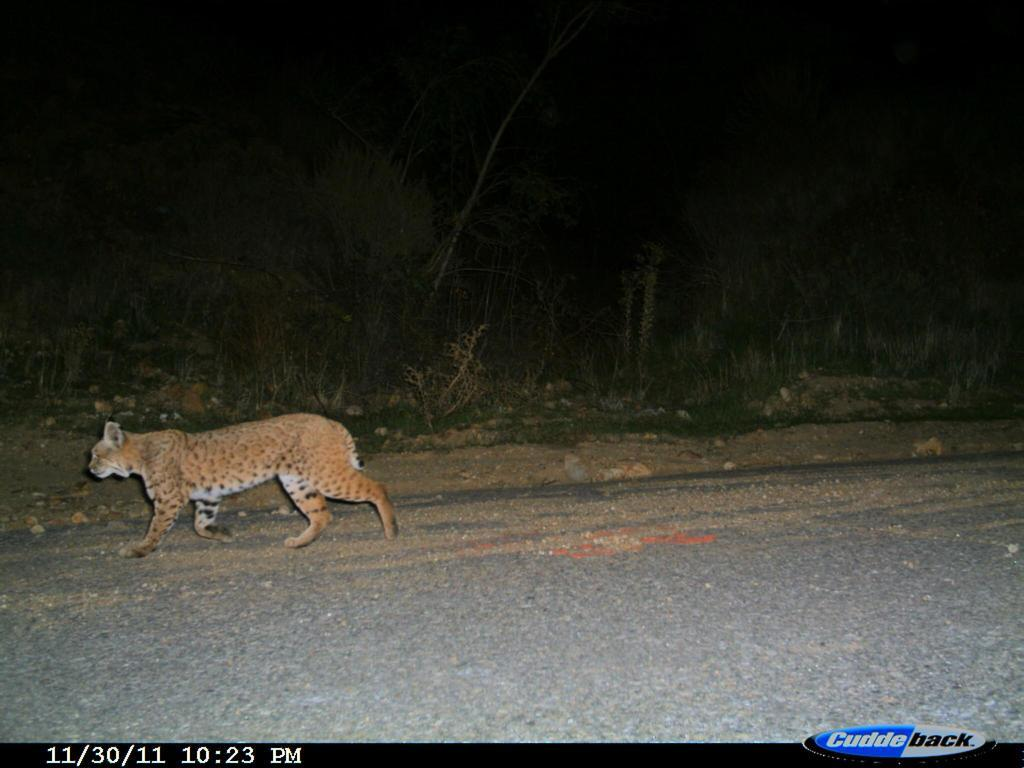bobcat: (79, 409, 408, 564)
